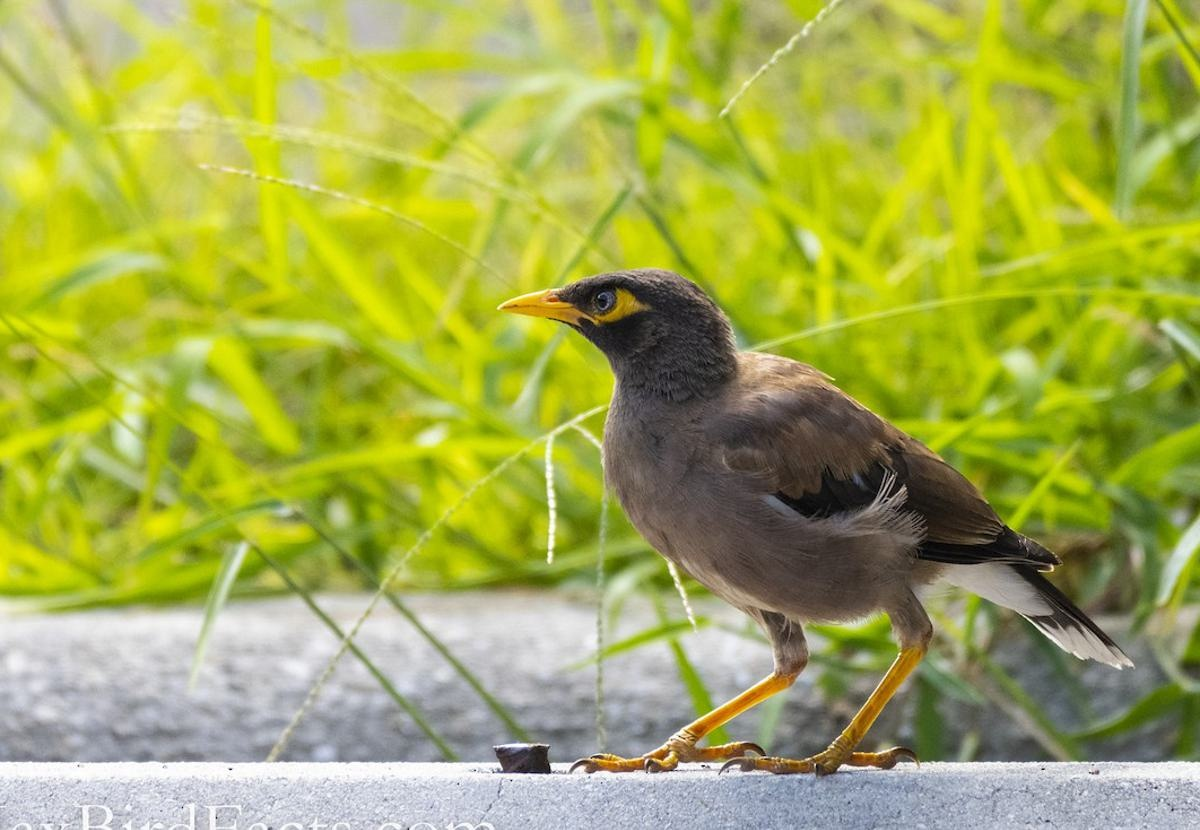myna: (496, 250, 1047, 762)
